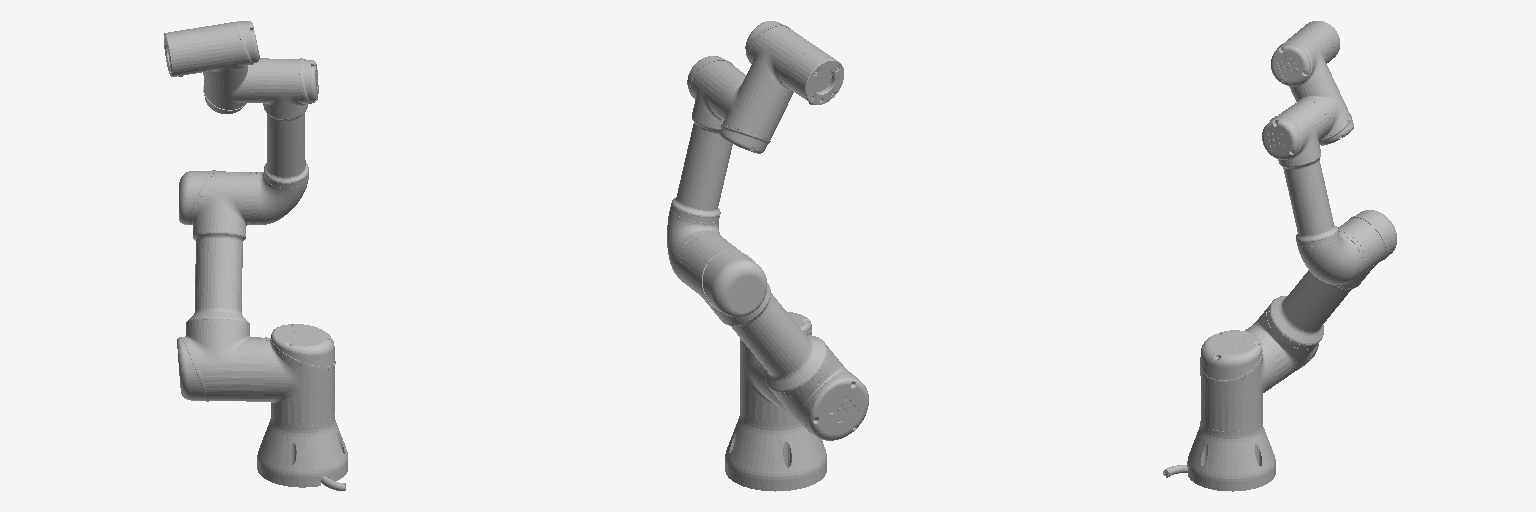
robot.urdf — ur33:
<?xml version="1.0" encoding="utf-8"?>
<!-- This URDF was automatically created by SolidWorks to URDF Exporter! Originally created by [author] ([email redacted]) 
     Commit Version: 1.6.0-4-g7f85cfe  Build Version: 1.6.7995.38578
     For more information, please see http://wiki.ros.org/sw_urdf_exporter -->
<robot
  name="ur33">
  <link
    name="base_link">
    <inertial>
      <origin
        xyz="3.93116168057698E-05 0.046220310995705 0.000808491080125992"
        rpy="0 0 0" />
      <mass
        value="0.615785283013905" />
      <inertia
        ixx="0.000761300764311581"
        ixy="3.53676883539911E-07"
        ixz="-2.98963200654773E-07"
        iyy="0.00100294058166069"
        iyz="3.46585976118834E-06"
        izz="0.000774576499049897" />
    </inertial>
    <visual>
      <origin
        xyz="0 0 0"
        rpy="0 0 0" />
      <geometry>
        <mesh
          filename="package://ur33/meshes/base_link.STL" />
      </geometry>
      <material
        name="">
        <color
          rgba="0.752941176470588 0.752941176470588 0.752941176470588 1" />
      </material>
    </visual>
    <collision>
      <origin
        xyz="0 0 0"
        rpy="0 0 0" />
      <geometry>
        <mesh
          filename="package://ur33/meshes/base_link.STL" />
      </geometry>
    </collision>
  </link>
  <link
    name="link1">
    <inertial>
      <origin
        xyz="6.40625776083875E-06 0.0542704211136902 -0.00733848978313137"
        rpy="0 0 0" />
      <mass
        value="0.755651972571877" />
      <inertia
        ixx="0.00106903797369438"
        ixy="9.48353620024205E-08"
        ixz="9.89315736990657E-08"
        iyy="0.00090648513977724"
        iyz="0.000131067701862537"
        izz="0.000990118676481075" />
    </inertial>
    <visual>
      <origin
        xyz="0 0 0"
        rpy="0 0 0" />
      <geometry>
        <mesh
          filename="package://ur33/meshes/link1.STL" />
      </geometry>
      <material
        name="">
        <color
          rgba="0.752941176470588 0.752941176470588 0.752941176470588 1" />
      </material>
    </visual>
    <collision>
      <origin
        xyz="0 0 0"
        rpy="0 0 0" />
      <geometry>
        <mesh
          filename="package://ur33/meshes/link1.STL" />
      </geometry>
    </collision>
  </link>
  <joint
    name="joint1"
    type="continuous">
    <origin
      xyz="0 0 0.08605"
      rpy="1.5707963267949 0 1.02027676759682" />
    <parent
      link="base_link" />
    <child
      link="link1" />
    <axis
      xyz="0 -1 0" />
    <limit
      lower="-3.14"
      upper="3.14"
      effort="100"
      velocity="2" />
  </joint>
  <link
    name="link2">
    <inertial>
      <origin
        xyz="-3.40662919530443E-06 0.105709589894391 -0.116589773897471"
        rpy="0 0 0" />
      <mass
        value="1.80164817391606" />
      <inertia
        ixx="0.00264980120870352"
        ixy="1.00358855442868E-07"
        ixz="8.54007575304427E-08"
        iyy="0.00166988003581637"
        iyz="8.10906621570882E-05"
        izz="0.00251726798779669" />
    </inertial>
    <visual>
      <origin
        xyz="0 0 0"
        rpy="0 0 0" />
      <geometry>
        <mesh
          filename="package://ur33/meshes/link2.STL" />
      </geometry>
      <material
        name="">
        <color
          rgba="0.752941176470588 0.752941176470588 0.752941176470588 1" />
      </material>
    </visual>
    <collision>
      <origin
        xyz="0 0 0"
        rpy="0 0 0" />
      <geometry>
        <mesh
          filename="package://ur33/meshes/link2.STL" />
      </geometry>
    </collision>
  </link>
  <joint
    name="joint2"
    type="continuous">
    <origin
      xyz="0 0.06585 0"
      rpy="0 0 -0.6205" />
    <parent
      link="link1" />
    <child
      link="link2" />
    <axis
      xyz="0 0 1" />
    <limit
      lower="-3.14"
      upper="3.14"
      effort="100"
      velocity="2" />
  </joint>
  <link
    name="link3">
    <inertial>
      <origin
        xyz="2.24339715571009E-06 0.111202714258686 -0.0317831977238189"
        rpy="0 0 0" />
      <mass
        value="0.962318952715277" />
      <inertia
        ixx="0.00107272032995011"
        ixy="2.02713323875915E-08"
        ixz="4.87772431766089E-09"
        iyy="0.000542662096675596"
        iyz="-4.61078717315503E-05"
        izz="0.00101486278935852" />
    </inertial>
    <visual>
      <origin
        xyz="0 0 0"
        rpy="0 0 0" />
      <geometry>
        <mesh
          filename="package://ur33/meshes/link3.STL" />
      </geometry>
      <material
        name="">
        <color
          rgba="0.752941176470588 0.752941176470588 0.752941176470588 1" />
      </material>
    </visual>
    <collision>
      <origin
        xyz="0 0 0"
        rpy="0 0 0" />
      <geometry>
        <mesh
          filename="package://ur33/meshes/link3.STL" />
      </geometry>
    </collision>
  </link>
  <joint
    name="joint3"
    type="continuous">
    <origin
      xyz="0 0.243649999999999 0"
      rpy="0 0 0.868302413726291" />
    <parent
      link="link2" />
    <child
      link="link3" />
    <axis
      xyz="0 0 1" />
    <limit
      lower="-3.14"
      upper="3.14"
      effort="100"
      velocity="2" />
  </joint>
  <link
    name="link4">
    <inertial>
      <origin
        xyz="-6.99518419222667E-06 -0.00051778061754687 -0.0835319337644836"
        rpy="0 0 0" />
      <mass
        value="0.325313485754062" />
      <inertia
        ixx="0.000226231397466014"
        ixy="-2.03463830398214E-09"
        ixz="2.89684521205882E-09"
        iyy="0.000199092282562547"
        iyz="1.83494651487692E-05"
        izz="0.000194599811769467" />
    </inertial>
    <visual>
      <origin
        xyz="0 0 0"
        rpy="0 0 0" />
      <geometry>
        <mesh
          filename="package://ur33/meshes/link4.STL" />
      </geometry>
      <material
        name="">
        <color
          rgba="0.752941176470588 0.752941176470588 0.752941176470588 1" />
      </material>
    </visual>
    <collision>
      <origin
        xyz="0 0 0"
        rpy="0 0 0" />
      <geometry>
        <mesh
          filename="package://ur33/meshes/link4.STL" />
      </geometry>
    </collision>
  </link>
  <joint
    name="joint4"
    type="continuous">
    <origin
      xyz="0 0.212999999998673 -0.0205823596352335"
      rpy="0 0 0.269687956226345" />
    <parent
      link="link3" />
    <child
      link="link4" />
    <axis
      xyz="0 0 -1" />
    <limit
      lower="-3.14"
      upper="3.14"
      effort="100"
      velocity="2" />
  </joint>
  <link
    name="link5">
    <inertial>
      <origin
        xyz="6.56426537604116E-06 0.0562627732366582 0.000517430709453752"
        rpy="0 0 0" />
      <mass
        value="0.325304141773629" />
      <inertia
        ixx="0.000226236567379787"
        ixy="1.56315497310287E-09"
        ixz="-1.73865805742435E-09"
        iyy="0.000194601314147486"
        iyz="1.83493835545114E-05"
        izz="0.000199103026304365" />
    </inertial>
    <visual>
      <origin
        xyz="0 0 0"
        rpy="0 0 0" />
      <geometry>
        <mesh
          filename="package://ur33/meshes/link5.STL" />
      </geometry>
      <material
        name="">
        <color
          rgba="0.752941176470588 0.752941176470588 0.752941176470588 1" />
      </material>
    </visual>
    <collision>
      <origin
        xyz="0 0 0"
        rpy="0 0 0" />
      <geometry>
        <mesh
          filename="package://ur33/meshes/link5.STL" />
      </geometry>
    </collision>
  </link>
  <joint
    name="joint5"
    type="continuous">
    <origin
      xyz="0 0.0212129805007124 -0.0894566136371169"
      rpy="0 0.206511156802192 0" />
    <parent
      link="link4" />
    <child
      link="link5" />
    <axis
      xyz="0 1 0" />
    <limit
      lower="-3.14"
      upper="3.14"
      effort="100"
      velocity="2" />
  </joint>
  <link
    name="link6">
    <inertial>
      <origin
        xyz="-3.42017217325186E-09 -0.000103313227807433 -0.0496689201397846"
        rpy="0 0 0" />
      <mass
        value="0.115355209052267" />
      <inertia
        ixx="4.24687738288345E-05"
        ixy="8.28353260635316E-12"
        ixz="4.20982546528648E-12"
        iyy="4.2681447202874E-05"
        iyz="-1.0322241480194E-07"
        izz="5.90666201317264E-05" />
    </inertial>
    <visual>
      <origin
        xyz="0 0 0"
        rpy="0 0 0" />
      <geometry>
        <mesh
          filename="package://ur33/meshes/link6.STL" />
      </geometry>
      <material
        name="">
        <color
          rgba="0.752941176470588 0.752941176470588 0.752941176470588 1" />
      </material>
    </visual>
    <collision>
      <origin
        xyz="0 0 0"
        rpy="0 0 0" />
      <geometry>
        <mesh
          filename="package://ur33/meshes/link6.STL" />
      </geometry>
    </collision>
  </link>
  <joint
    name="joint6"
    type="continuous">
    <origin
      xyz="0 0.0621870195022446 -0.0123039845567861"
      rpy="0 0 2.76994190311241" />
    <parent
      link="link5" />
    <child
      link="link6" />
    <axis
      xyz="0 0 -1" />
    <limit
      lower="-3.14"
      upper="3.14"
      effort="100"
      velocity="2" />
  </joint>
</robot>

--- Render facts (derived) ---
The picture shows the robot from 3 angles, left to right: view 1: azimuth 30°, elevation 25°; view 2: azimuth 150°, elevation 25°; view 3: azimuth 270°, elevation 25°; orthographic projection.
Model ur33 with 7 links and 6 joints (6 continuous), rooted at base_link, posed every joint at zero.
Links seen in each view (by area): view 1: link2, link3, link1, base_link, link5, link4, link6; view 2: link2, link3, base_link, link4, link5, link6, link1; view 3: link3, link2, link1, base_link, link5, link4, link6.
Boxes of the visible links, x1=… form: link2: x1=177, y1=170, x2=263, y2=401; link3: x1=250, y1=58, x2=318, y2=224; link1: x1=263, y1=324, x2=335, y2=425; base_link: x1=257, y1=414, x2=347, y2=490; link5: x1=193, y1=21, x2=259, y2=80; link4: x1=203, y1=63, x2=254, y2=113; link6: x1=164, y1=29, x2=198, y2=76; link2: x1=680, y1=235, x2=868, y2=440; link3: x1=667, y1=56, x2=745, y2=282; base_link: x1=725, y1=409, x2=826, y2=491; link4: x1=718, y1=74, x2=791, y2=153; link5: x1=745, y1=21, x2=817, y2=95; link6: x1=786, y1=47, x2=843, y2=104; link1: x1=740, y1=312, x2=811, y2=422; link3: x1=1262, y1=100, x2=1364, y2=284; link2: x1=1245, y1=210, x2=1396, y2=388; link1: x1=1200, y1=330, x2=1277, y2=431; base_link: x1=1163, y1=420, x2=1275, y2=491; link5: x1=1271, y1=29, x2=1330, y2=92; link4: x1=1292, y1=74, x2=1353, y2=145; link6: x1=1299, y1=21, x2=1339, y2=62.
Size in the robot's own frame: 0.2427 by 0.3389 by 0.6641 metres.
Meshes: 7 distinct files referenced, 7 mesh visuals loaded (7 binary STL).
